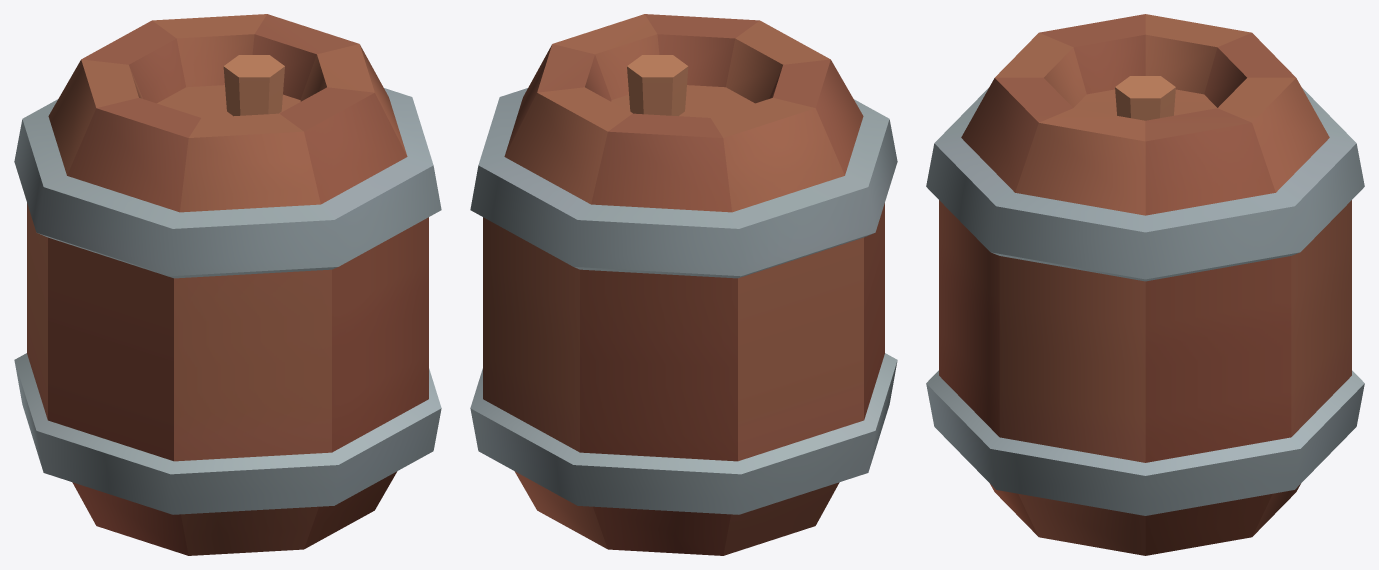
The model's file is kay-barril-hex.gltf.
3 views of the same model, side by side, from view 1: azimuth 30°, elevation 25°; view 2: azimuth 150°, elevation 25°; view 3: azimuth 270°, elevation 25° (orthographic).
Visible parts, largest first — view 1: barrel; view 2: barrel; view 3: barrel.
Part boxes in pixels (box(x1,y1,x2,y2)): barrel: box(14, 14, 441, 555); barrel: box(470, 14, 897, 555); barrel: box(926, 14, 1364, 555).
Size of the model in its own units: 1.01 by 1.06 by 1.01.
1 material, 1 textured.
